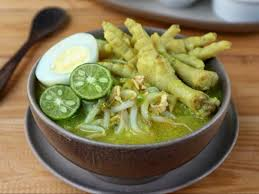soto: (30, 14, 238, 165)
